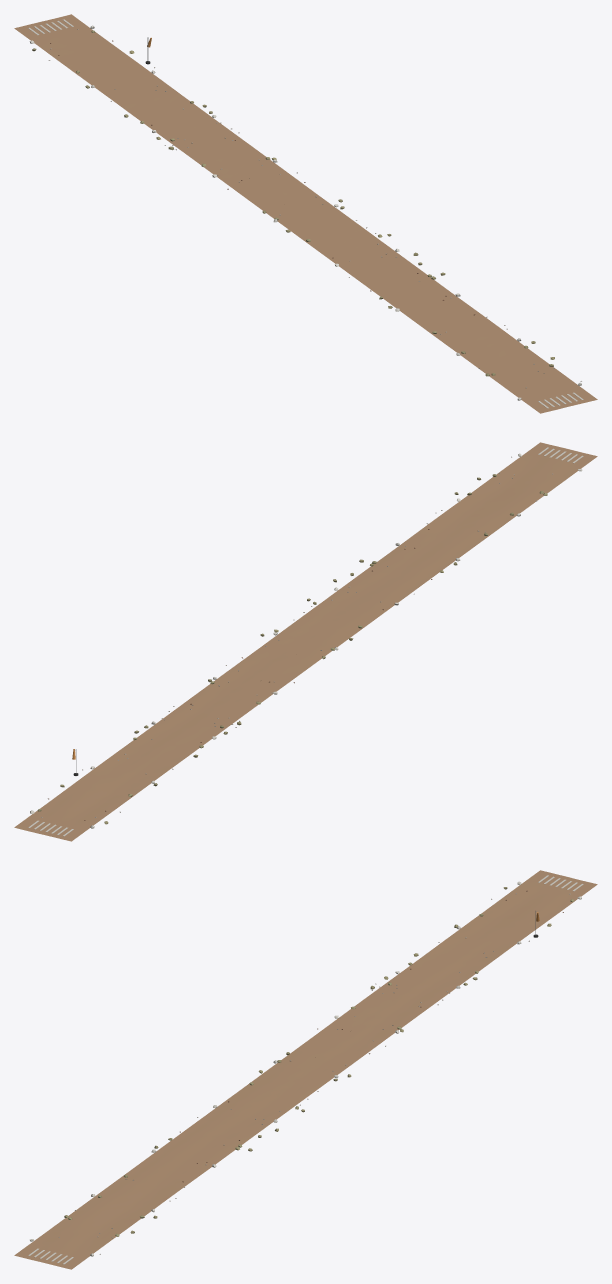
File: table-strip.glb
The picture shows the model from 3 angles, top to bottom: view 1: azimuth 30°, elevation 25°; view 2: azimuth 150°, elevation 25°; view 3: azimuth 330°, elevation 25°; orthographic projection.
Parts seen in each view (by area): view 1: table-strip; view 2: table-strip; view 3: table-strip.
Part boxes in pixels (<box>): table-strip: <box>14,14,597,413</box>; table-strip: <box>14,442,597,841</box>; table-strip: <box>14,870,597,1269</box>.
Size of the model in its own units: 16.77 by 5.46 by 190.
